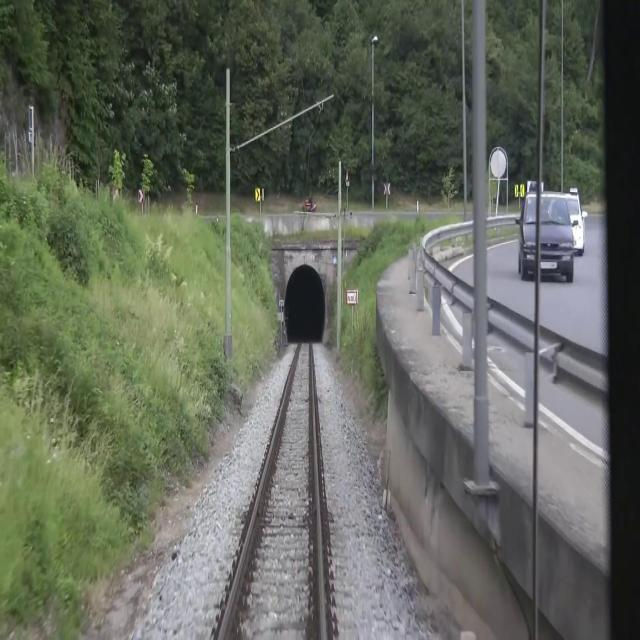rail-track: (223, 340, 321, 639)
